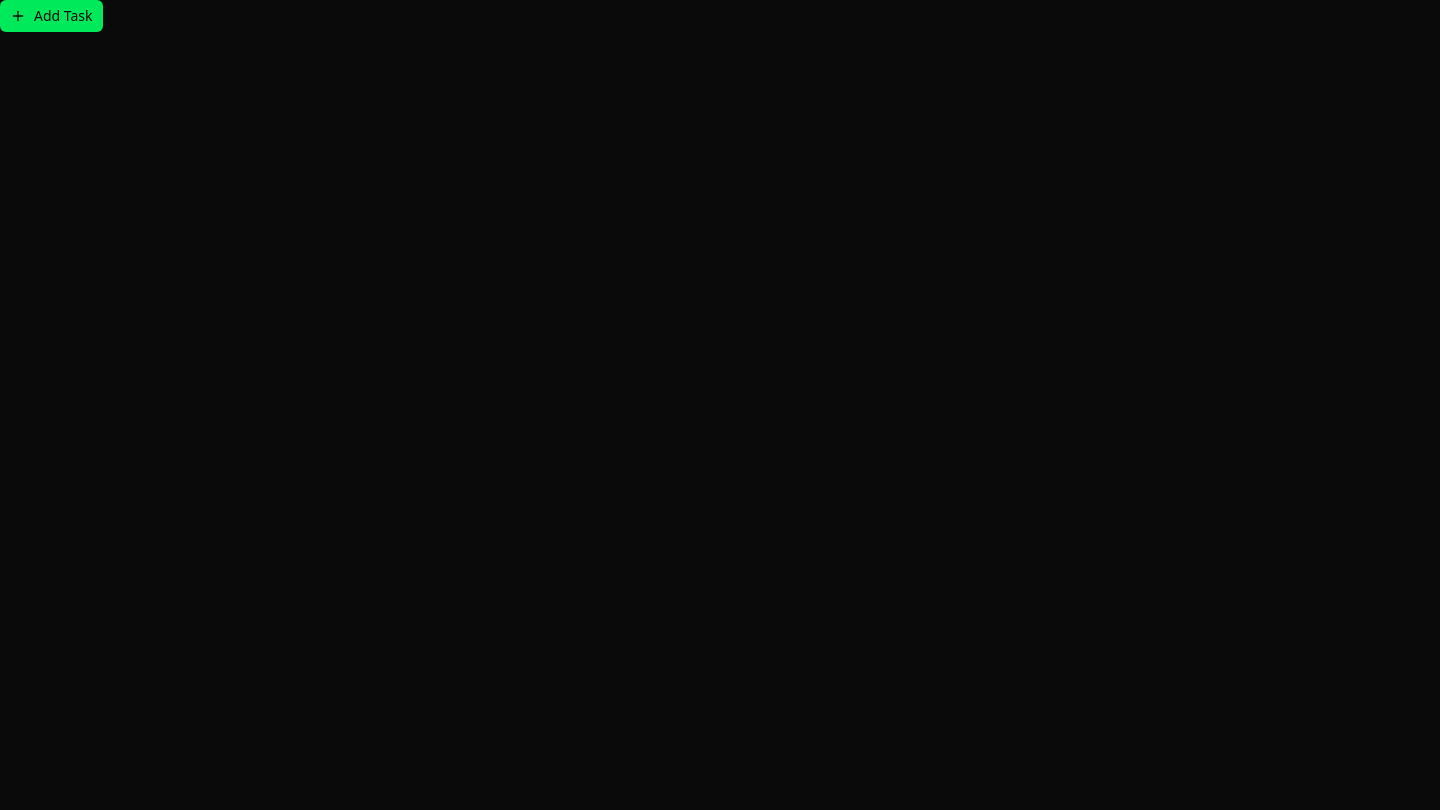
Test case: AddTaskDialog › displays character counter for title
The width and height of the screenshot is (1440, 810).
Step 1. Click the button "Add Task" → click(51, 16), box top-left (0, 0), bottom-right (102, 32)
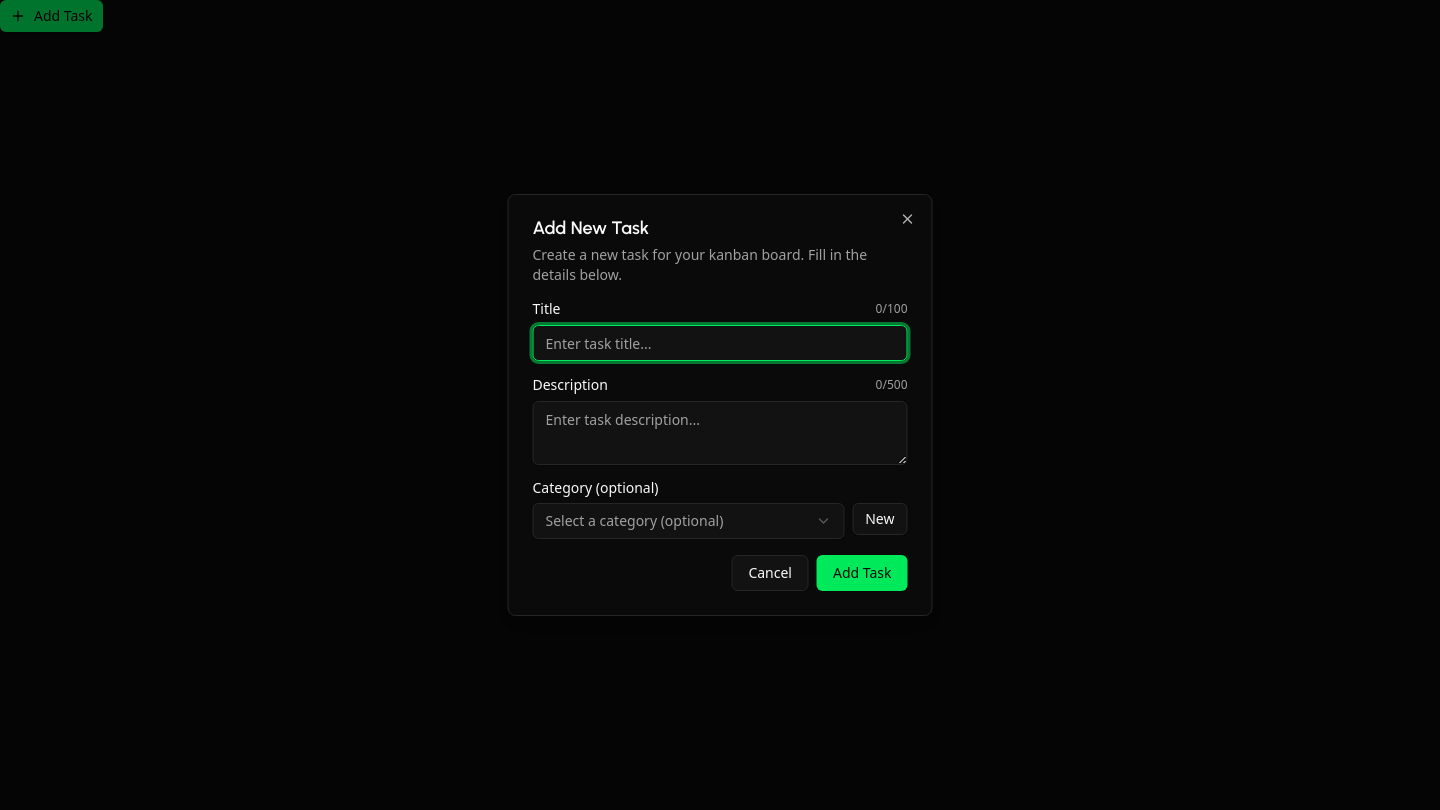
Now the text "0/100" is shown, box top-left (876, 301), bottom-right (908, 317)
Step 2. Type "Test" into the field labelled "Title" → (720, 343), box top-left (532, 325), bottom-right (908, 361)
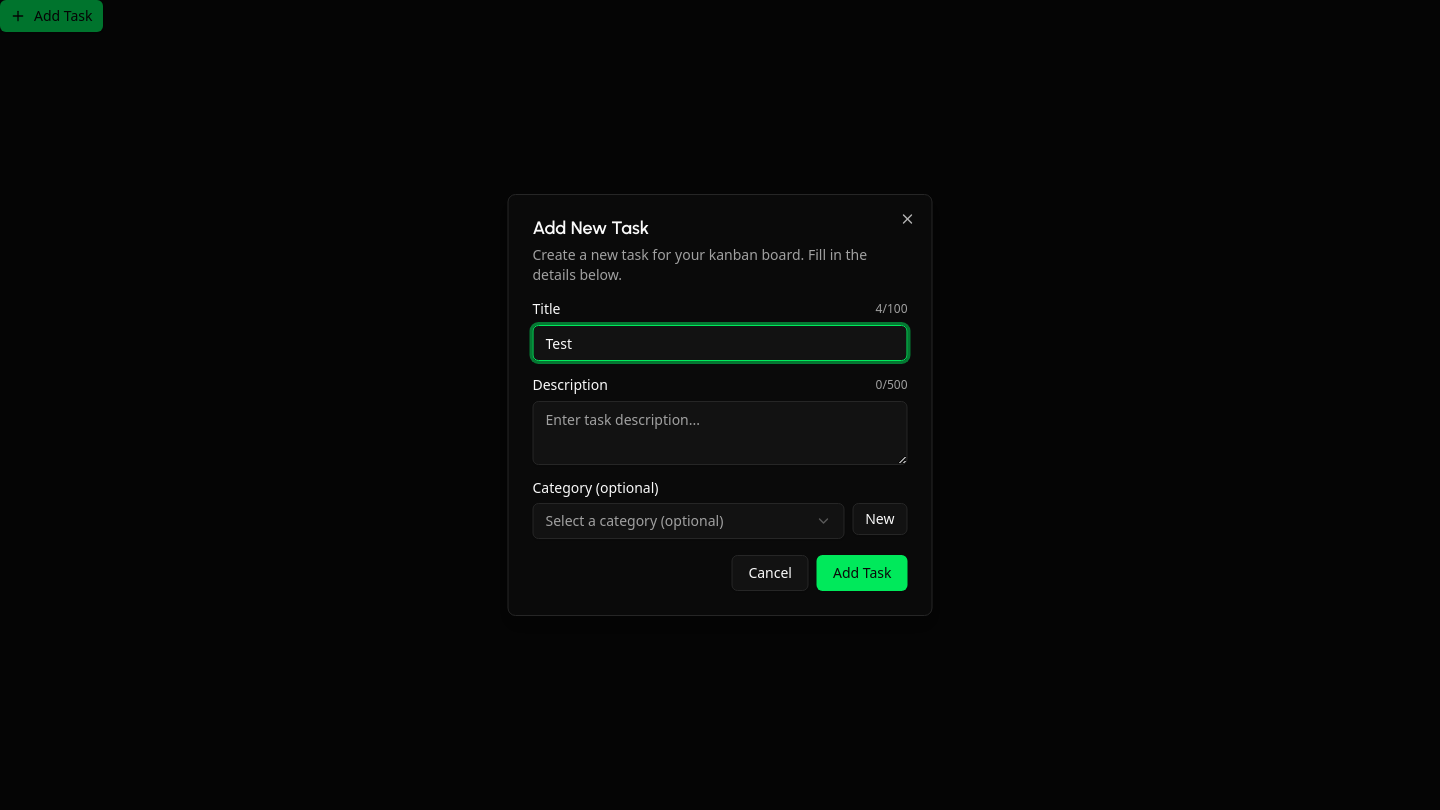
Now the text "4/100" is shown, box top-left (876, 301), bottom-right (908, 317)
